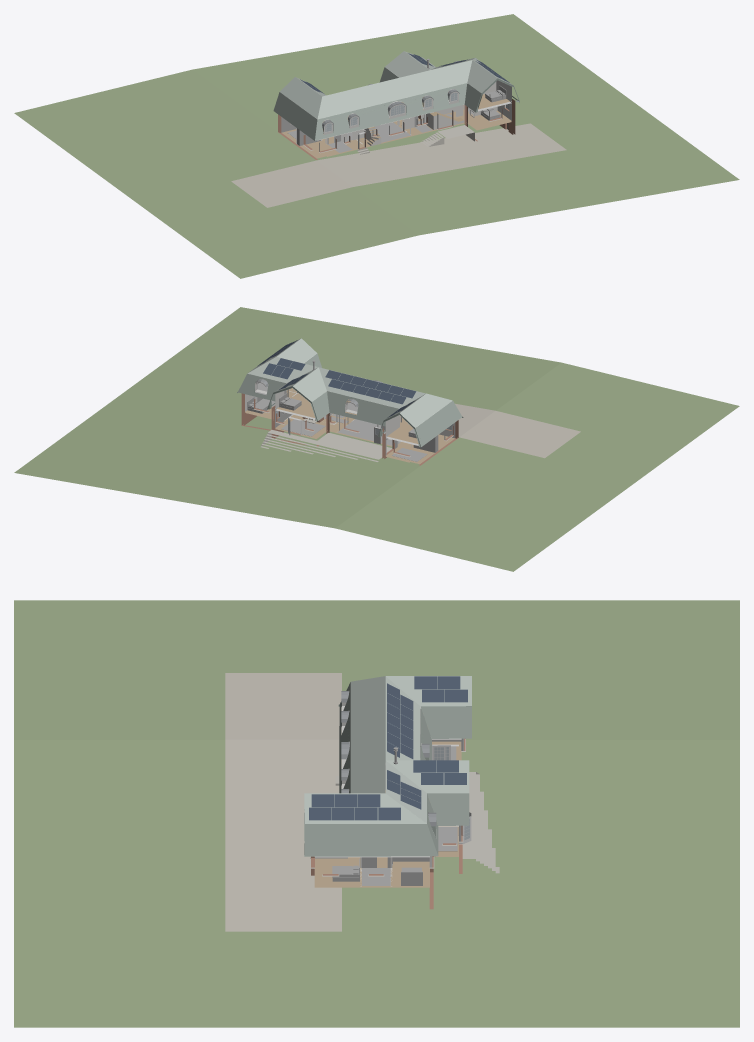
Rendered from bungalow.glb.
The picture shows the model from 3 angles, top to bottom: view 1: azimuth 30°, elevation 25°; view 2: azimuth 150°, elevation 25°; view 3: azimuth 270°, elevation 25°; orthographic projection. The views are drawn at different scales.
Parts seen in each view (by area): view 1: site|walk|grass, site|walk|gravel, roof|none|patina_up, roof|none|patina, gf|walk|oak, gf|solid|brick, gf|walk|tile_floor, gf|solid|plaster, gf|solid|stair_side, site|walk|stone; view 2: site|walk|grass, site|walk|gravel, roof|none|patina_up, roof|none|patina, roof|none|solar, site|walk|stone, gf|solid|brick, gf|walk|oak, ff|walk|oak_ff, gf|walk|tile_floor; view 3: site|walk|grass, site|walk|gravel, roof|none|patina_up, roof|none|patina, roof|none|solar, gf|walk|oak, site|walk|stone.
Boxes of the visible parts, x1=… form: site|walk|grass: x1=14, y1=14, x2=739, y2=278; site|walk|gravel: x1=231, y1=123, x2=566, y2=207; roof|none|patina_up: x1=280, y1=51, x2=511, y2=119; roof|none|patina: x1=273, y1=67, x2=481, y2=140; gf|walk|oak: x1=282, y1=105, x2=511, y2=158; gf|solid|brick: x1=278, y1=99, x2=515, y2=159; gf|walk|tile_floor: x1=328, y1=108, x2=473, y2=152; gf|solid|plaster: x1=296, y1=103, x2=497, y2=144; gf|solid|stair_side: x1=364, y1=111, x2=464, y2=145; site|walk|stone: x1=357, y1=125, x2=474, y2=153; site|walk|grass: x1=14, y1=307, x2=739, y2=571; site|walk|gravel: x1=455, y1=403, x2=580, y2=458; roof|none|patina_up: x1=247, y1=338, x2=452, y2=427; roof|none|patina: x1=238, y1=353, x2=462, y2=446; roof|none|solar: x1=258, y1=340, x2=416, y2=417; site|walk|stone: x1=261, y1=430, x2=392, y2=461; gf|solid|brick: x1=241, y1=393, x2=458, y2=465; gf|walk|oak: x1=245, y1=406, x2=454, y2=464; ff|walk|oak_ff: x1=277, y1=388, x2=418, y2=443; gf|walk|tile_floor: x1=258, y1=398, x2=400, y2=445; site|walk|grass: x1=14, y1=600, x2=739, y2=1027; site|walk|gravel: x1=225, y1=673, x2=341, y2=931; roof|none|patina_up: x1=304, y1=676, x2=471, y2=823; roof|none|patina: x1=304, y1=682, x2=471, y2=856; roof|none|solar: x1=309, y1=676, x2=467, y2=820; gf|walk|oak: x1=314, y1=741, x2=461, y2=885; site|walk|stone: x1=335, y1=772, x2=499, y2=873.
Bounding box in the file's own units: 70 × 10.75 × 55.
